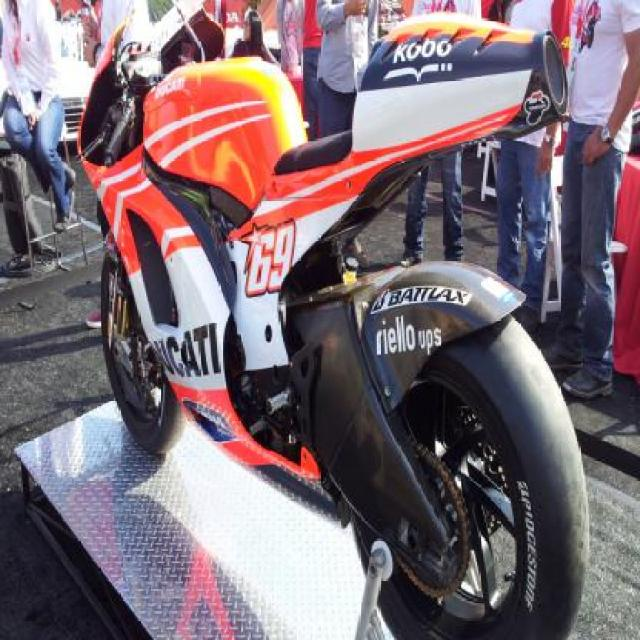bus: (94, 10, 595, 619)
